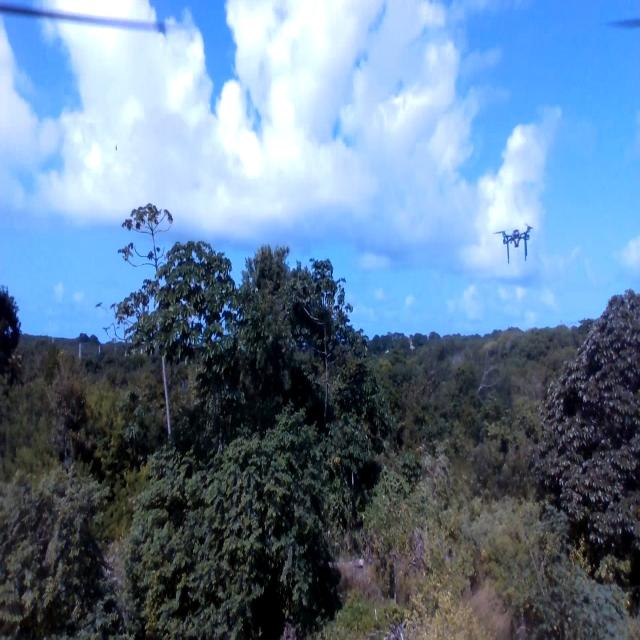-uav-: (486, 205, 542, 274)
